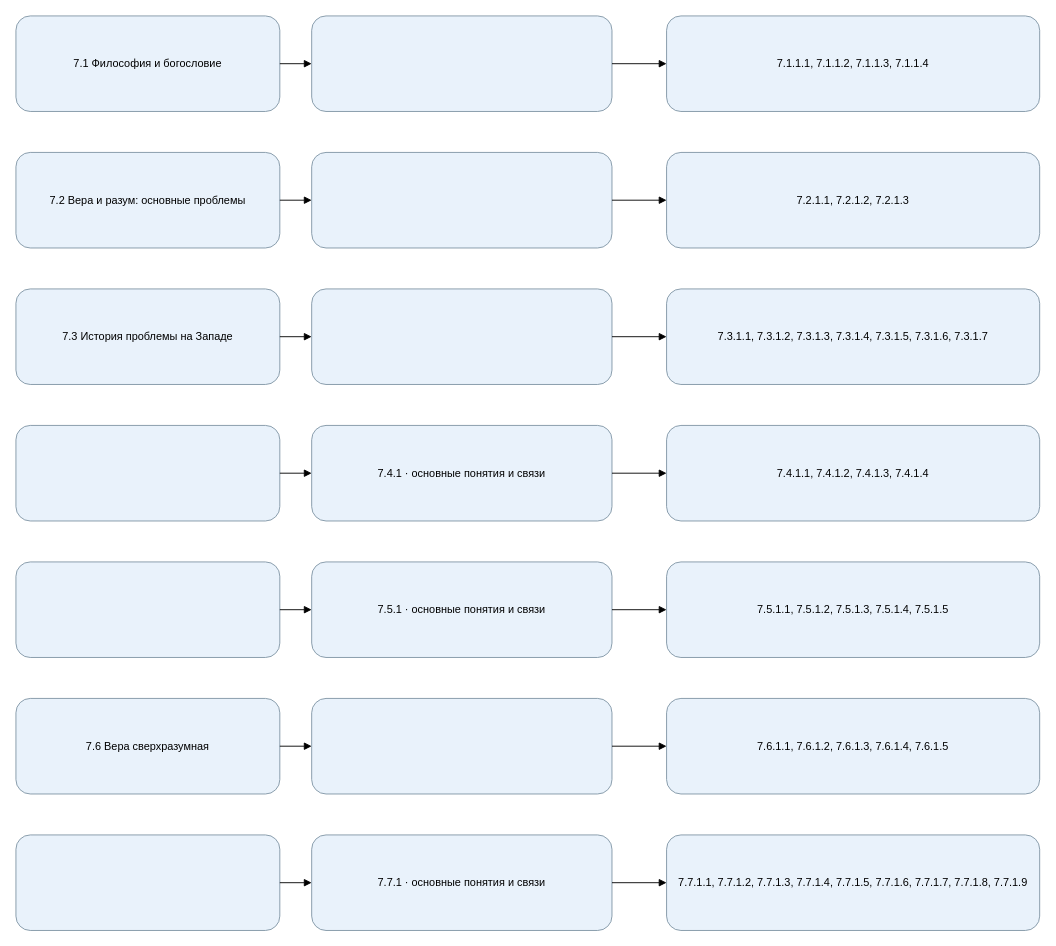
This 1056x946 diagram has some shape labels left out. Each missing label, with the centre of its shape:
"7.1.1 · основные понятия и связи" belongs at pixel 461 63.
"7.2.1 · основные понятия и связи" belongs at pixel 461 200.
"7.3.1 · основные понятия и связи" belongs at pixel 461 336.
"7.4 Восточная традиция" belongs at pixel 147 473.
"7.5 Психологическое и онтологическое понимание" belongs at pixel 147 609.
"7.6.1 · основные понятия и связи" belongs at pixel 461 746.
"7.7 Вера целостного человека" belongs at pixel 147 882.
